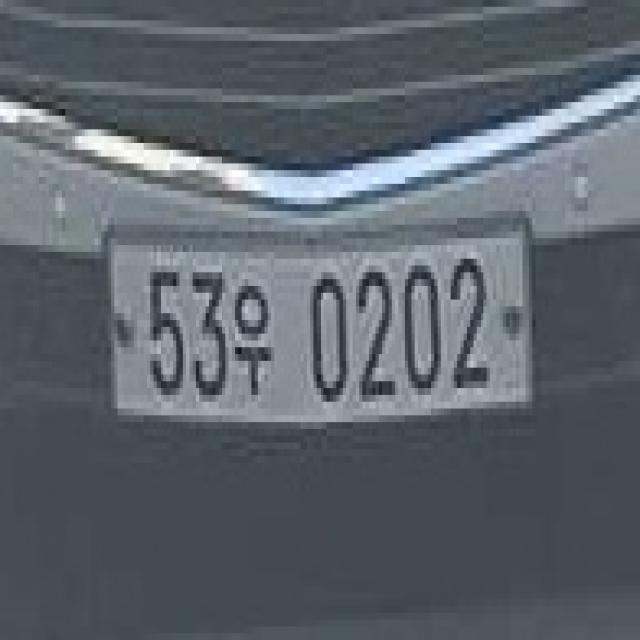0: (304, 252, 352, 442), (405, 245, 444, 436)
2: (353, 218, 408, 463), (444, 245, 490, 436)
3: (189, 231, 232, 429)
5: (140, 252, 192, 408)
license_plate: (98, 198, 542, 456)
u: (222, 272, 278, 408)
